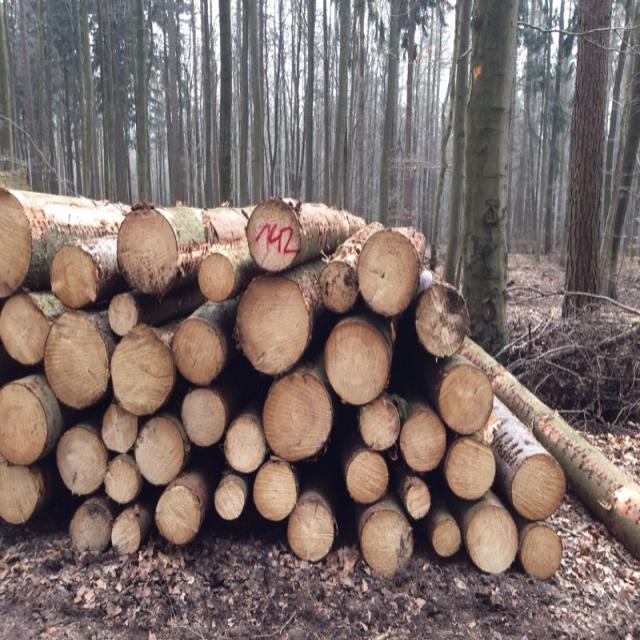wood-log: (236, 275, 311, 375), (262, 369, 332, 462), (45, 315, 110, 409), (111, 323, 176, 414), (325, 317, 391, 404), (359, 229, 420, 317), (118, 209, 178, 295), (415, 281, 470, 357), (438, 362, 492, 436), (0, 384, 48, 466), (248, 198, 300, 271), (512, 452, 566, 521), (0, 293, 51, 365), (360, 509, 412, 578), (172, 318, 224, 385), (0, 189, 31, 298), (58, 427, 108, 494), (469, 506, 518, 573), (135, 417, 182, 484), (51, 245, 99, 308), (400, 407, 446, 472), (446, 439, 495, 499), (155, 484, 202, 544), (288, 501, 335, 561), (181, 389, 226, 447), (254, 462, 298, 521), (0, 464, 39, 524), (346, 449, 388, 503), (520, 526, 562, 580), (225, 419, 265, 472), (359, 399, 399, 451), (320, 261, 359, 313), (70, 504, 111, 551), (102, 405, 137, 452), (199, 255, 234, 300), (105, 457, 138, 504), (111, 508, 142, 554), (109, 291, 139, 335), (431, 519, 461, 556), (215, 481, 244, 519), (406, 484, 431, 519)
